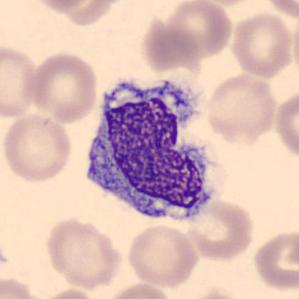Monocyte: (76, 70, 219, 231)
RBC: (42, 215, 125, 290), (1, 110, 74, 184), (204, 71, 279, 143), (28, 49, 100, 124), (124, 221, 200, 288), (183, 197, 257, 262), (228, 10, 296, 80), (160, 0, 235, 61), (140, 13, 200, 73), (251, 226, 298, 294), (0, 41, 40, 120), (272, 87, 298, 162), (29, 0, 116, 19), (102, 281, 174, 299), (0, 274, 47, 299), (260, 0, 299, 21), (38, 286, 101, 299), (180, 289, 250, 299)
